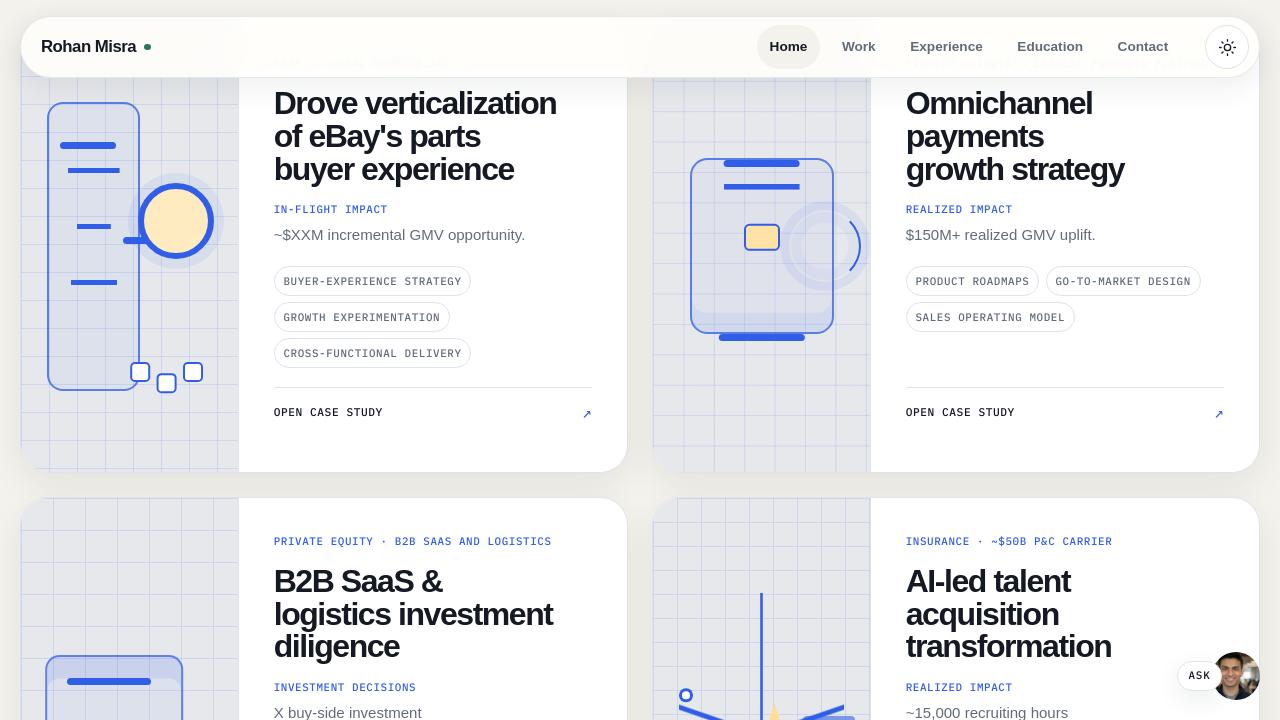
usePortfolioLayers integration › keeps ordinary case Escape focus restoration when no handoff occurs
(page scrolled)
Click the button with aria-label "Open case study: Omnichannel payments" at (960, 412), box [906,387,1224,438]
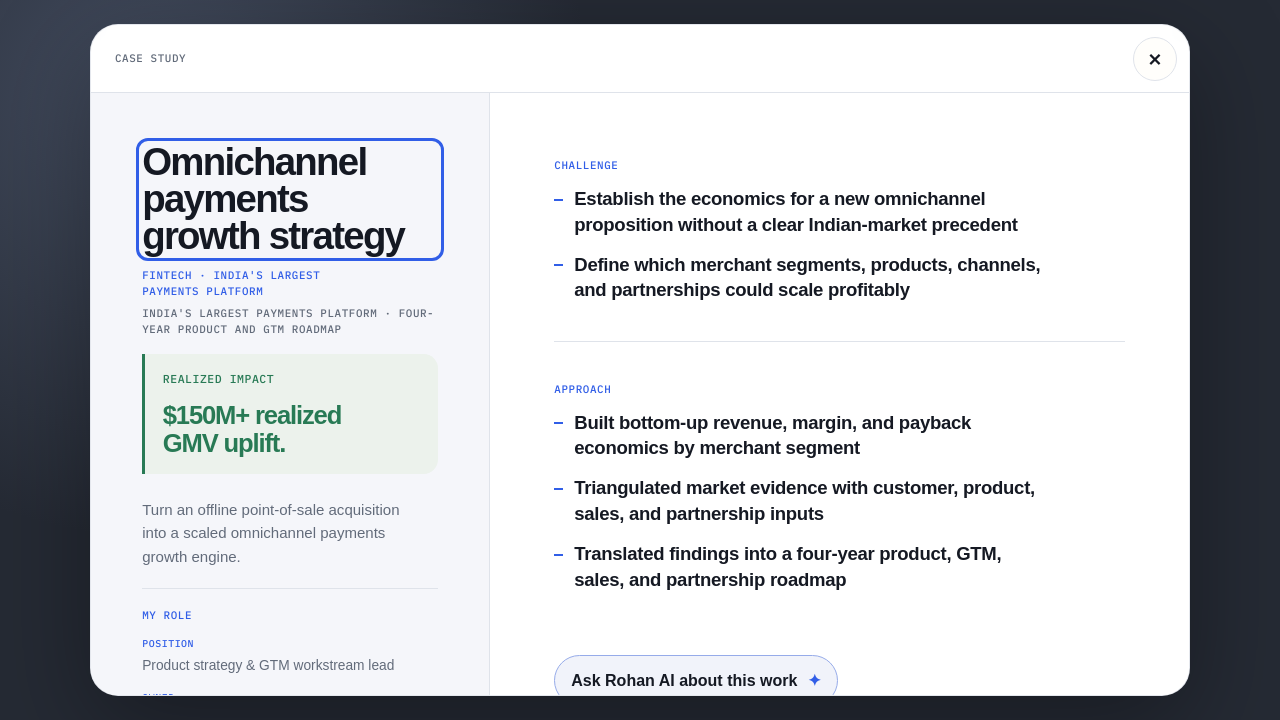
Press Escape
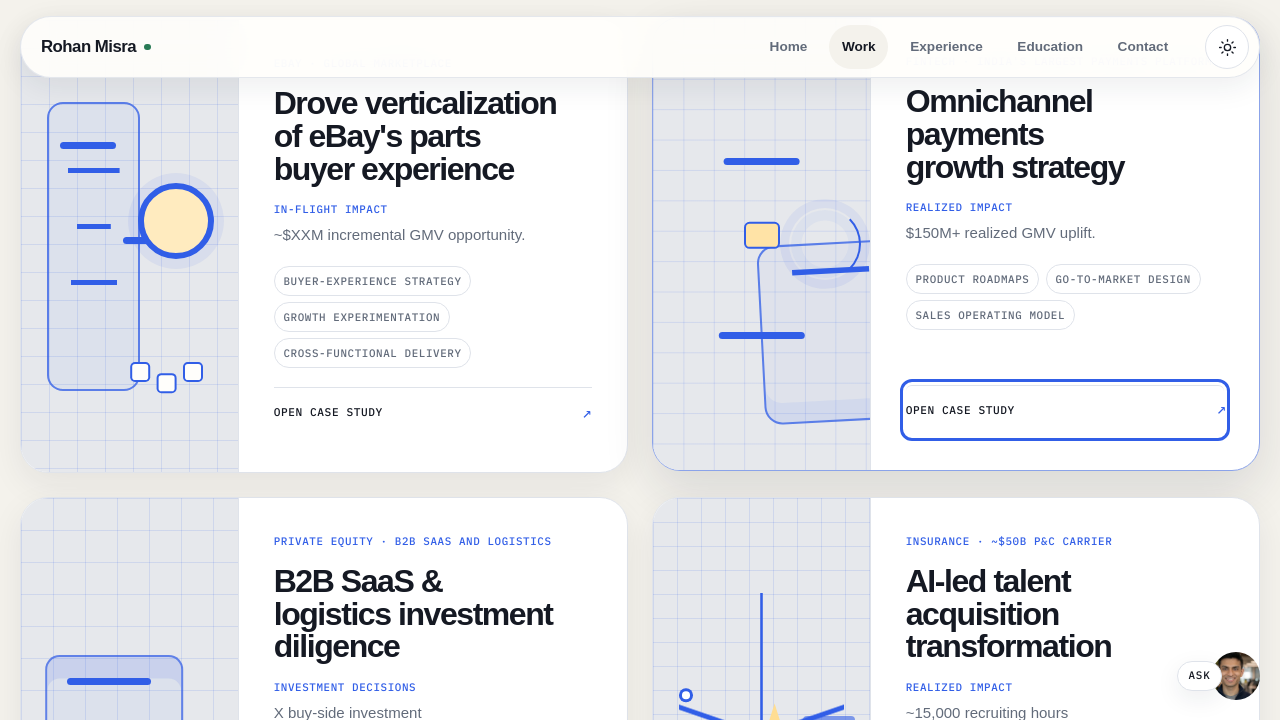
Expected: the dialog is gone
